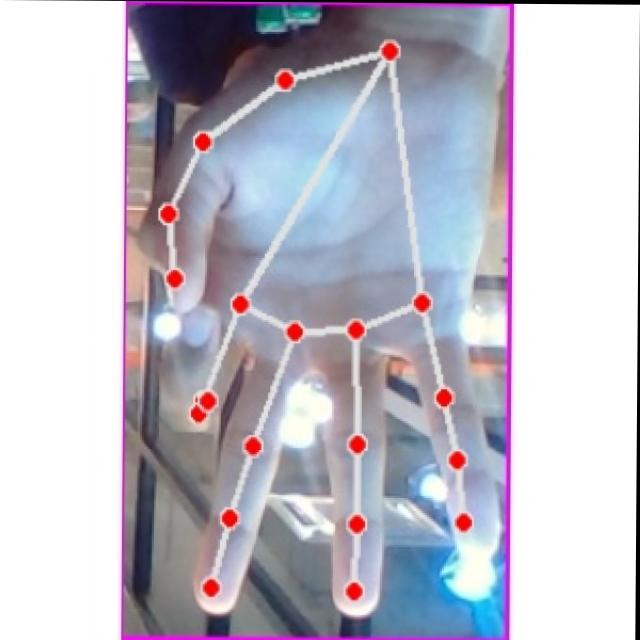F: (136, 23, 502, 626)
